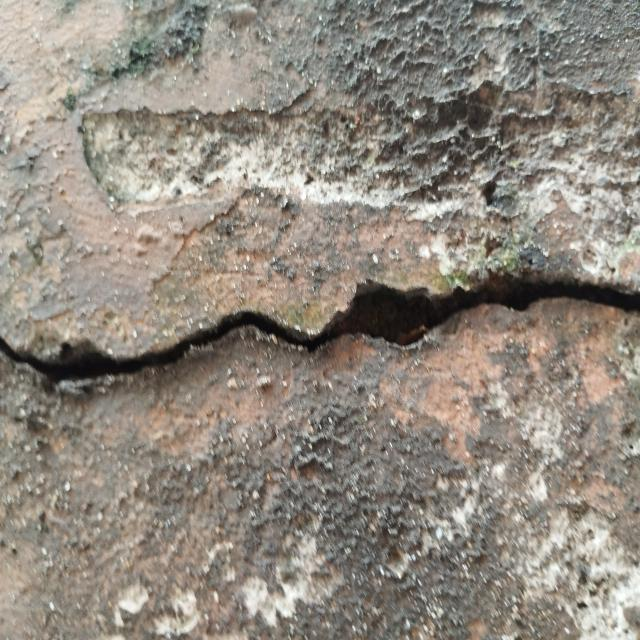horizontal crack: (0, 281, 640, 382)
